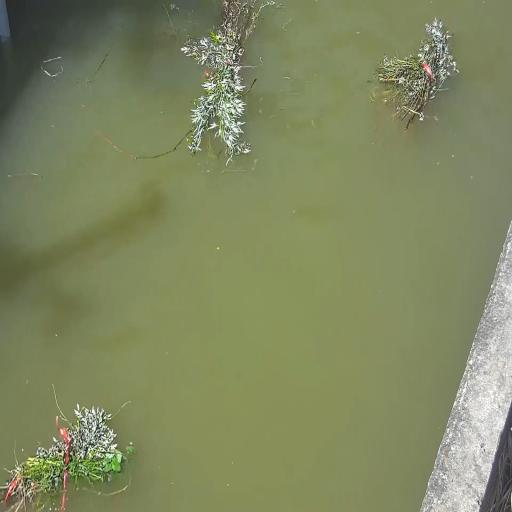twig: (100, 2, 271, 165), (2, 386, 134, 509), (372, 18, 458, 136)
